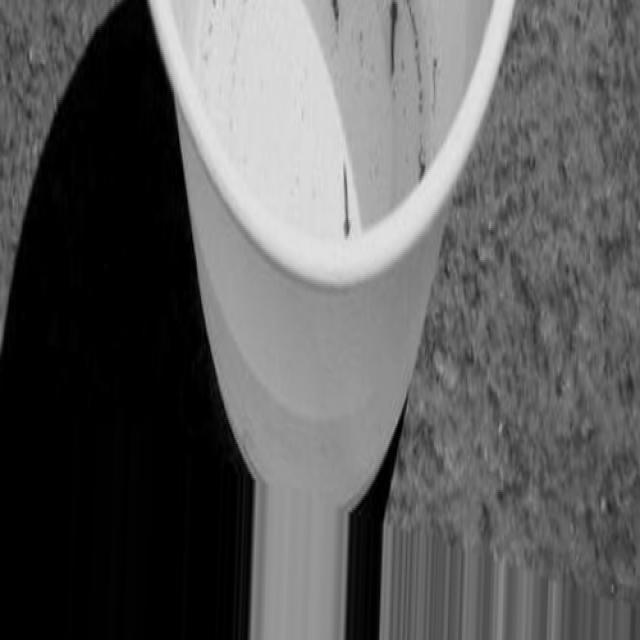larvas: (388, 2, 400, 75), (341, 165, 351, 236), (430, 57, 438, 108), (331, 1, 341, 22)
